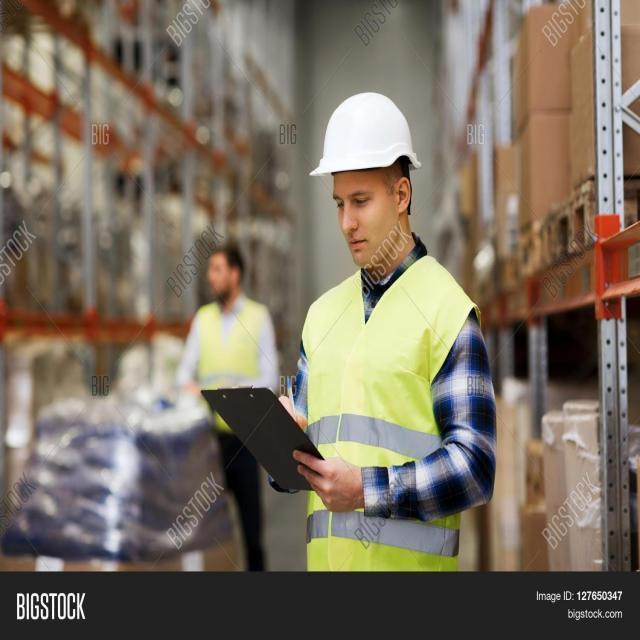helmet: (317, 91, 423, 187)
no-helmet: (201, 233, 247, 275)
vest: (302, 253, 482, 570), (188, 299, 272, 387)
